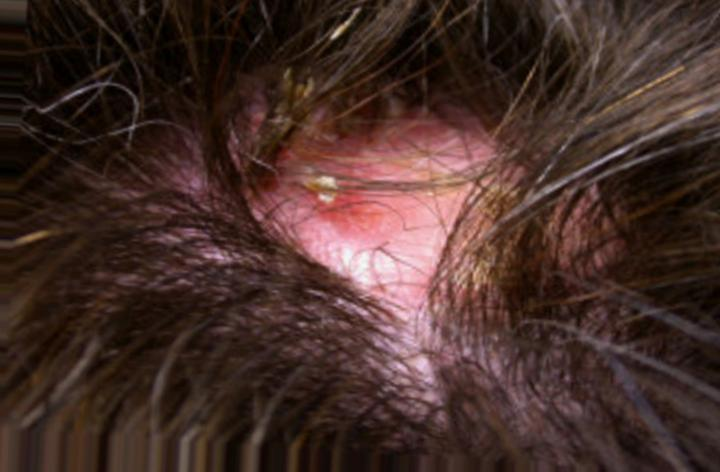Folliculitis: (254, 89, 464, 384)
